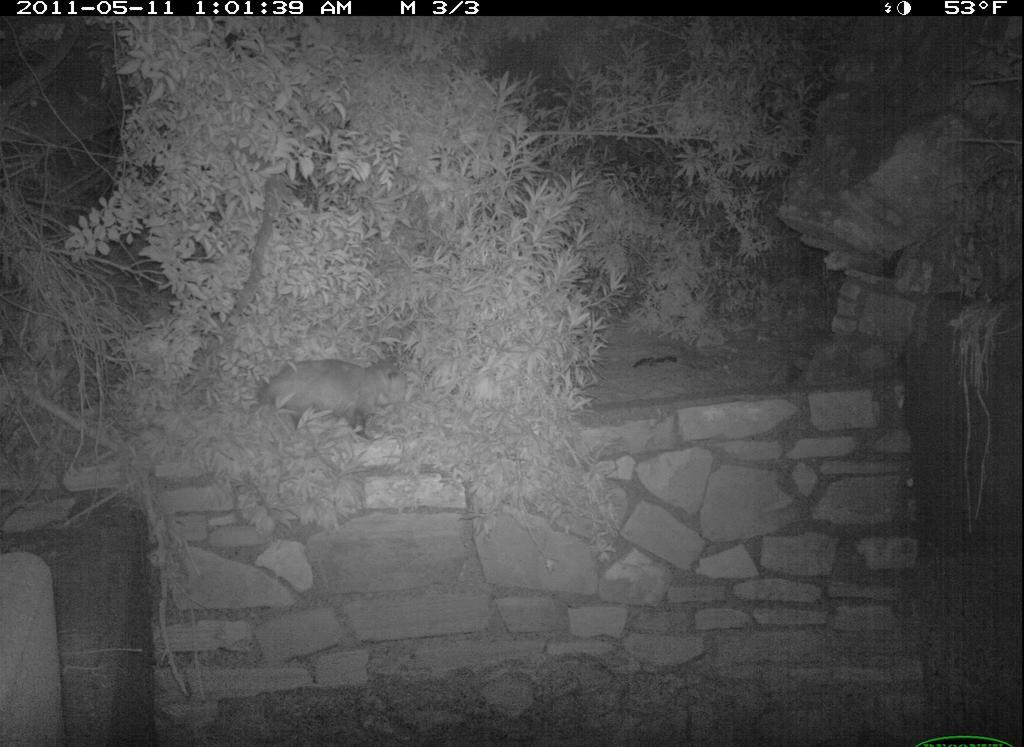opossum: (246, 349, 418, 441)
